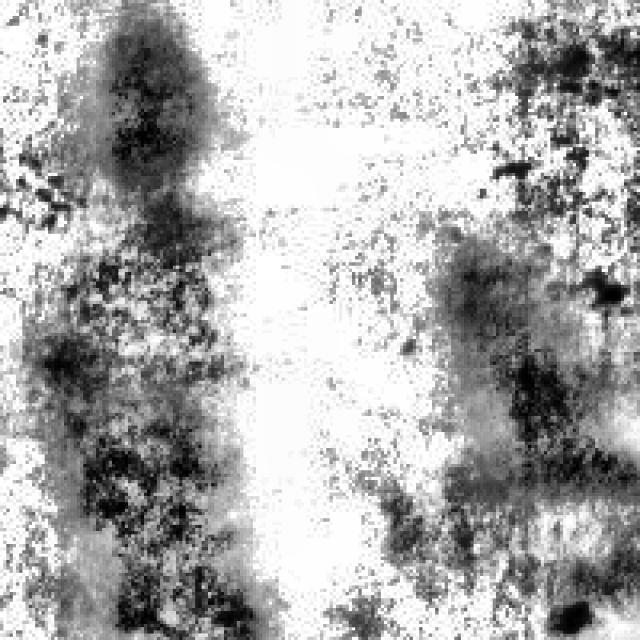Scratches: (35, 323, 272, 637), (438, 233, 637, 500), (86, 28, 212, 185)
